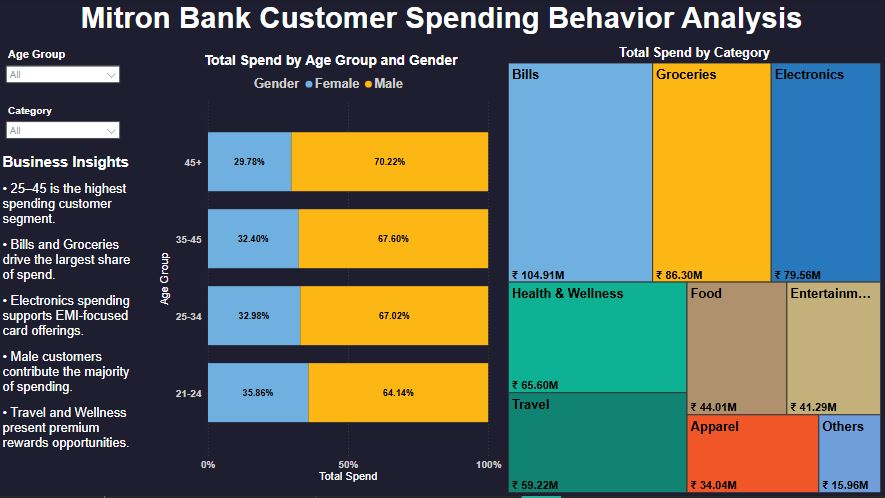

What the dashboard file says about the page in this screenshot:
{"tool":"powerbi","page":{"name":"Customer Spending Behhavior","canvas":[1280,720],"ordinal":1},"visuals":[{"type":"hundredPercentStackedBarChart","title":"Total Spend by Age Group and Gender","fields":{"Y":["dim_customers.Total Spend"],"Category":["dim_customers.age_group"],"Series":["dim_customers.gender"]},"box":[227,79.5,504.6,624.6],"z":0},{"type":"treemap","fields":{"Group":["fact_spends.category"],"Values":["dim_customers.Total Spend"]},"box":[731.6,68,548,652],"z":1000},{"type":"textbox","box":[0,0,1280,80],"z":2000},{"type":"slicer","fields":{"Values":["dim_customers.age_group"]},"box":[0,68,185.1,66.5],"z":3000},{"type":"slicer","fields":{"Values":["fact_spends.category"]},"box":[0,150.4,185.1,79.5],"z":4000},{"type":"textbox","box":[0,219.8,208.2,500.2],"z":5000}]}

Visuals, with their boxes in screenshot pixels (x1, y1, x2, y2), scaled from the page's 1280x720 canvas onto the 885x498 screenshot:
"Total Spend by Age Group and Gender" hundredPercentStackedBarChart: 157 55 506 487
treemap - fact_spends.category x dim_customers.Total Spend: 506 47 884 497
textbox: 0 0 884 55
slicer - dim_customers.age_group: 0 47 128 93
slicer - fact_spends.category: 0 104 128 159
textbox: 0 152 144 497
